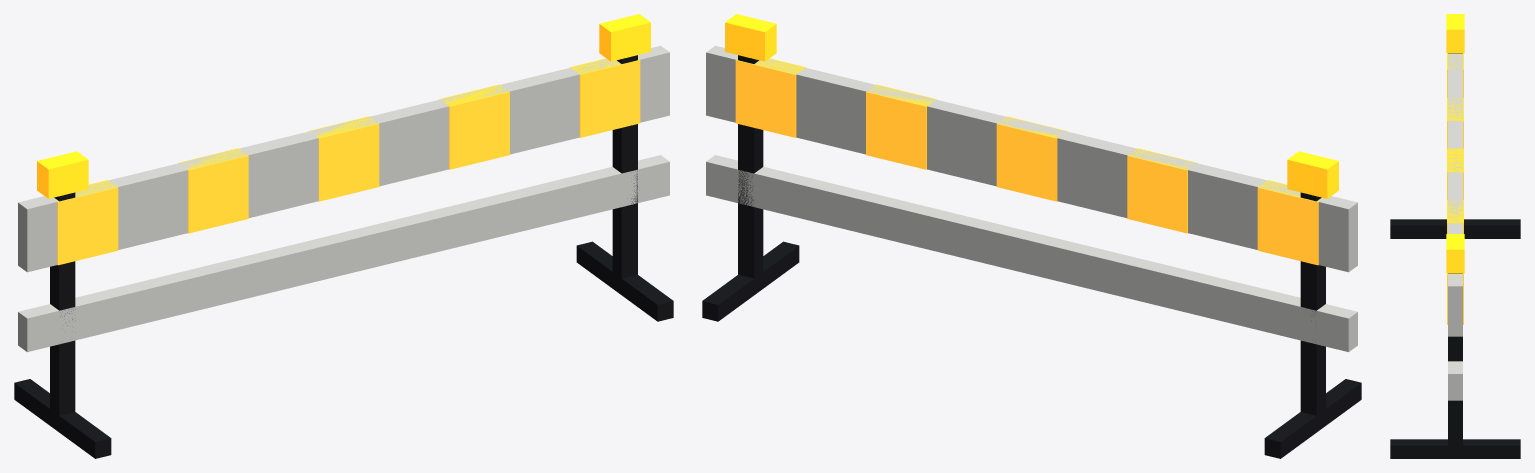
The model's file is prop_roadblock.glb.
3 renders of one model, left to right at view 1: azimuth 30°, elevation 25°; view 2: azimuth 150°, elevation 25°; view 3: azimuth 270°, elevation 25°, orthographic. The views are drawn at different scales.
Parts seen in each view (by area): view 1: prop_roadblock__mesh; view 2: prop_roadblock__mesh; view 3: prop_roadblock__mesh.
Part boxes in pixels (box(x1,y1,x2,y2)): prop_roadblock__mesh: box(14, 14, 673, 458); prop_roadblock__mesh: box(702, 14, 1361, 458); prop_roadblock__mesh: box(1390, 14, 1520, 458).
Bounding box in the file's own units: 3.2 × 1.27 × 0.7.
